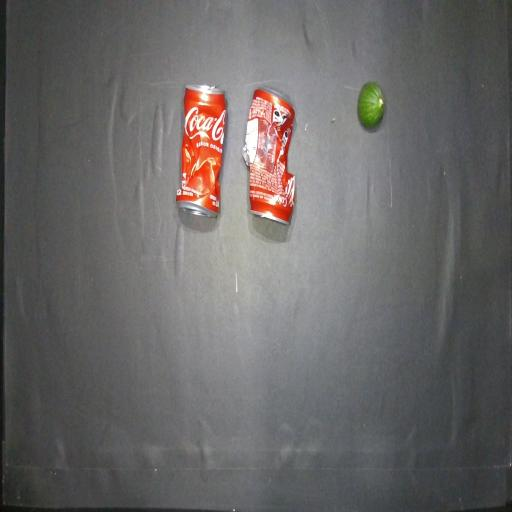higo: (357, 82, 385, 129)
lata_defectuoso: (242, 88, 296, 225), (176, 85, 227, 217)
